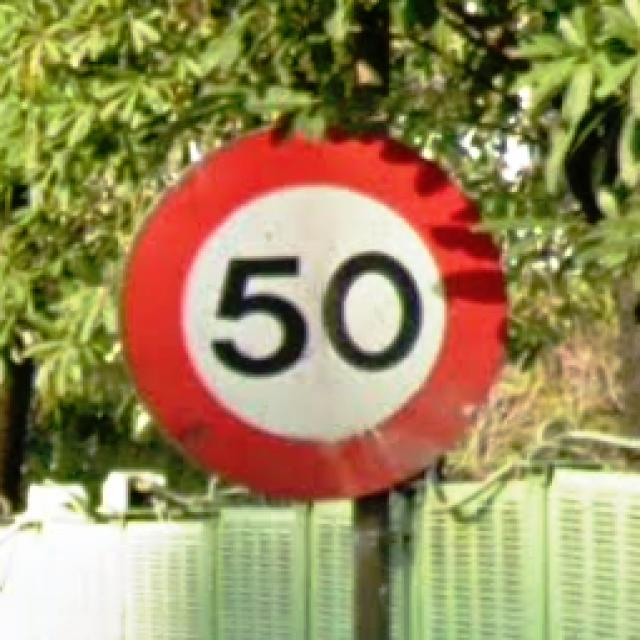max50: (115, 119, 512, 500)
